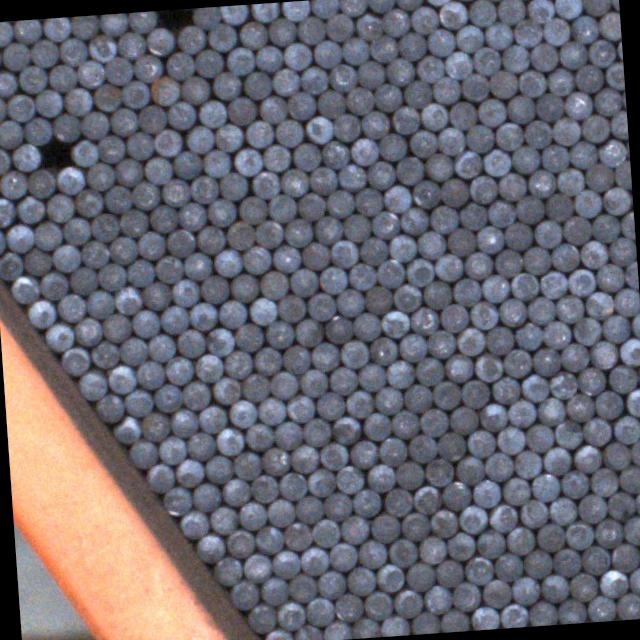tool: (326, 540, 356, 570), (450, 581, 480, 611), (370, 513, 400, 543), (458, 378, 488, 408), (258, 269, 288, 299), (504, 94, 534, 124), (588, 466, 618, 496), (440, 480, 470, 510), (506, 398, 536, 428), (494, 426, 524, 456), (270, 548, 300, 578), (148, 77, 178, 107), (364, 160, 394, 190), (538, 574, 568, 604), (416, 230, 446, 260), (172, 149, 202, 179), (44, 192, 74, 222), (328, 366, 358, 396), (454, 326, 484, 356), (512, 448, 542, 478), (426, 328, 456, 358), (436, 431, 466, 461), (438, 178, 468, 208), (4, 223, 34, 253), (212, 556, 242, 586), (528, 472, 558, 502), (160, 178, 190, 208), (404, 256, 434, 286), (534, 522, 564, 552), (362, 589, 392, 619), (420, 280, 450, 310), (518, 498, 548, 528), (138, 410, 168, 440), (58, 36, 88, 66), (44, 322, 74, 352), (596, 137, 626, 167), (562, 214, 592, 244), (54, 165, 84, 195), (456, 200, 486, 230), (454, 456, 484, 486), (326, 62, 356, 92), (302, 416, 331, 446), (308, 166, 338, 195), (372, 385, 402, 414), (523, 119, 552, 149), (578, 494, 607, 524), (105, 364, 134, 394), (502, 349, 532, 378), (574, 366, 604, 395), (354, 361, 384, 390), (309, 342, 338, 372), (418, 406, 447, 436), (483, 450, 512, 480), (380, 308, 409, 338), (242, 244, 271, 274), (232, 450, 261, 480), (458, 505, 488, 534), (482, 578, 511, 608), (339, 514, 368, 544), (402, 382, 431, 412), (339, 338, 368, 368), (321, 491, 350, 521), (167, 100, 196, 130), (300, 240, 329, 270), (505, 524, 534, 554), (162, 487, 192, 516), (406, 560, 435, 590), (273, 419, 302, 449), (242, 553, 271, 583), (439, 303, 469, 332), (572, 64, 602, 93), (230, 580, 259, 610), (393, 460, 422, 490), (298, 366, 327, 396), (464, 429, 494, 458), (356, 538, 385, 568), (430, 379, 459, 409), (304, 596, 333, 626), (448, 406, 478, 435), (552, 115, 581, 145), (368, 336, 397, 366), (599, 568, 628, 598), (408, 432, 437, 462), (62, 217, 92, 246), (224, 220, 254, 249), (324, 188, 354, 217), (156, 434, 185, 464), (452, 150, 481, 180), (298, 546, 327, 576), (493, 552, 522, 582), (286, 572, 315, 602), (27, 167, 56, 197), (60, 347, 90, 376), (572, 186, 601, 216), (428, 508, 457, 538), (398, 206, 428, 235), (330, 238, 359, 268), (10, 142, 40, 171), (190, 482, 219, 512), (408, 304, 437, 334), (567, 266, 596, 296), (509, 270, 538, 300), (387, 538, 416, 568), (224, 528, 253, 558), (551, 548, 580, 578), (194, 225, 223, 255), (359, 110, 388, 140), (443, 353, 472, 383), (179, 381, 208, 411), (100, 313, 129, 343), (583, 162, 612, 192), (22, 116, 52, 145), (594, 262, 623, 292), (74, 316, 103, 346), (84, 162, 114, 191), (578, 113, 608, 142), (74, 188, 103, 218), (429, 204, 458, 234), (534, 92, 563, 122), (95, 263, 125, 292), (50, 243, 80, 272), (589, 212, 618, 242), (108, 106, 137, 136), (91, 338, 120, 368), (608, 362, 637, 392), (322, 314, 351, 344), (63, 86, 92, 115), (333, 463, 362, 492), (351, 489, 380, 518), (563, 392, 592, 421), (202, 148, 231, 177), (164, 227, 193, 256), (118, 335, 147, 364), (463, 555, 492, 584), (79, 111, 108, 140), (448, 100, 477, 129), (207, 197, 236, 226), (389, 410, 418, 439), (174, 328, 203, 357), (460, 73, 489, 102), (509, 145, 538, 174), (134, 359, 163, 388), (424, 456, 453, 485), (412, 178, 441, 207), (305, 292, 334, 321), (218, 172, 247, 201), (499, 44, 528, 73), (197, 403, 226, 432), (383, 358, 412, 387), (109, 236, 138, 265), (396, 31, 425, 60), (425, 27, 454, 56), (103, 55, 132, 84), (463, 124, 492, 153), (184, 432, 213, 461), (473, 352, 502, 381), (373, 562, 402, 591), (239, 194, 268, 223), (399, 511, 428, 540), (222, 349, 251, 378), (608, 237, 637, 266), (372, 84, 401, 113), (431, 75, 460, 104), (143, 157, 172, 186), (611, 416, 640, 445), (213, 426, 242, 455), (476, 528, 505, 557), (553, 419, 582, 448), (584, 289, 613, 318), (450, 277, 479, 306), (153, 254, 182, 283), (467, 300, 496, 329), (176, 23, 205, 52), (149, 204, 178, 233), (248, 295, 277, 324), (392, 588, 421, 617), (493, 249, 522, 278), (80, 239, 109, 268), (513, 322, 542, 351), (539, 143, 568, 172), (1, 42, 30, 71), (103, 183, 132, 212), (330, 415, 359, 444), (534, 397, 563, 426), (489, 375, 518, 404), (133, 52, 162, 81), (445, 226, 474, 255), (530, 347, 559, 376), (207, 22, 236, 51), (226, 96, 255, 125), (56, 293, 85, 322), (14, 194, 43, 223), (413, 53, 442, 82), (488, 502, 517, 531), (95, 393, 124, 422), (66, 267, 95, 296), (544, 191, 573, 220), (311, 518, 339, 548), (276, 600, 304, 630), (158, 304, 188, 332), (280, 344, 308, 374), (378, 436, 406, 466), (568, 572, 596, 602), (478, 402, 506, 432), (582, 544, 610, 574), (346, 565, 374, 595), (132, 180, 160, 210), (260, 446, 288, 476), (269, 370, 297, 400), (248, 472, 276, 502), (124, 388, 152, 418), (198, 100, 228, 128), (423, 584, 451, 614), (334, 286, 362, 316), (238, 500, 266, 530), (559, 468, 587, 498), (594, 518, 622, 548), (358, 236, 388, 264), (306, 466, 334, 496), (220, 478, 248, 508), (256, 218, 284, 248), (144, 462, 172, 492), (170, 278, 198, 308), (542, 319, 570, 349), (314, 38, 342, 68), (588, 338, 616, 368), (288, 444, 316, 474), (296, 192, 324, 222), (332, 592, 360, 622), (383, 182, 411, 212), (316, 568, 344, 598), (275, 116, 303, 146), (274, 294, 304, 322), (26, 298, 54, 328), (290, 142, 320, 170), (228, 274, 258, 302), (488, 70, 518, 98), (4, 93, 34, 121), (602, 186, 632, 214), (90, 212, 118, 242), (29, 38, 57, 68), (524, 548, 552, 578), (610, 542, 638, 572), (194, 352, 222, 382), (169, 408, 197, 438), (538, 270, 566, 300), (129, 438, 157, 468), (153, 384, 181, 414), (480, 272, 508, 302), (136, 103, 164, 133), (402, 80, 430, 110), (268, 18, 298, 46), (568, 140, 596, 170), (606, 490, 634, 520), (412, 484, 440, 514), (571, 444, 599, 474), (356, 58, 384, 88), (86, 32, 114, 62), (46, 64, 76, 92), (498, 170, 526, 200), (425, 152, 453, 182), (114, 284, 142, 314), (210, 377, 240, 405), (85, 288, 113, 318), (164, 354, 192, 384), (248, 604, 276, 634), (40, 270, 68, 300), (34, 220, 62, 250), (512, 18, 542, 46), (367, 462, 395, 491), (594, 390, 622, 419), (152, 127, 180, 156), (188, 175, 216, 204), (560, 341, 588, 370), (288, 268, 316, 297), (503, 222, 532, 250), (364, 284, 392, 313), (318, 265, 346, 294), (398, 333, 426, 362), (266, 194, 294, 223), (602, 315, 630, 344), (582, 418, 610, 447), (285, 217, 313, 246), (282, 521, 310, 550), (418, 536, 446, 565), (394, 156, 422, 185), (548, 371, 576, 400), (474, 224, 502, 253), (344, 389, 372, 418), (196, 533, 224, 562), (294, 318, 322, 347), (178, 509, 206, 538), (286, 90, 314, 119), (350, 312, 378, 341), (542, 447, 570, 476), (468, 175, 496, 204), (294, 495, 322, 524), (240, 373, 268, 402), (525, 296, 554, 324), (234, 322, 262, 351), (137, 230, 166, 258), (318, 442, 347, 470), (528, 167, 556, 196), (494, 122, 522, 151), (600, 441, 628, 470), (265, 497, 293, 526), (524, 423, 552, 452), (314, 214, 342, 243), (174, 458, 202, 487), (199, 275, 227, 304), (188, 300, 216, 329), (316, 89, 344, 118), (278, 470, 306, 499), (204, 326, 232, 355), (97, 134, 125, 163), (414, 355, 442, 384), (142, 282, 171, 310), (442, 51, 470, 80), (304, 115, 332, 144), (233, 147, 262, 175), (510, 576, 538, 605), (51, 114, 80, 142), (352, 186, 380, 215), (520, 247, 548, 276), (513, 194, 542, 222), (214, 70, 242, 99), (130, 308, 158, 337), (571, 317, 599, 346), (214, 121, 242, 150), (300, 65, 328, 94), (114, 157, 142, 186), (350, 136, 378, 165), (258, 576, 287, 604), (336, 163, 364, 192), (393, 282, 421, 311), (74, 58, 102, 87), (227, 45, 255, 74), (409, 4, 438, 32), (147, 333, 175, 362), (316, 390, 344, 419), (476, 98, 504, 127), (324, 13, 352, 42), (462, 252, 490, 281), (208, 506, 236, 535), (564, 91, 592, 120), (79, 371, 107, 400), (349, 440, 377, 469), (253, 524, 282, 552), (182, 76, 210, 105), (124, 258, 152, 287), (592, 88, 620, 117), (555, 167, 584, 195), (346, 86, 374, 115), (204, 455, 232, 484), (384, 488, 412, 517), (195, 47, 223, 76), (258, 95, 286, 124), (144, 27, 172, 56), (356, 12, 384, 41), (549, 244, 578, 272), (92, 82, 120, 111), (238, 21, 266, 50), (19, 246, 48, 274), (70, 138, 98, 167), (420, 100, 447, 130), (530, 42, 557, 72), (322, 138, 349, 168), (545, 68, 572, 98), (578, 240, 606, 268), (183, 252, 211, 280), (564, 521, 592, 549), (280, 168, 308, 196), (184, 124, 212, 152), (471, 46, 499, 74), (376, 260, 404, 288), (434, 558, 462, 586), (370, 210, 398, 238), (264, 320, 292, 348), (436, 126, 464, 154), (558, 40, 586, 68), (388, 234, 416, 262), (368, 34, 396, 62), (554, 294, 582, 322), (484, 326, 512, 354), (270, 244, 298, 272), (34, 88, 62, 116), (497, 298, 525, 326), (284, 392, 312, 420), (586, 38, 614, 66), (214, 248, 242, 276), (487, 200, 515, 228), (382, 8, 410, 36), (518, 70, 546, 98), (251, 170, 279, 198), (520, 373, 548, 401), (254, 346, 282, 374), (256, 396, 284, 424), (446, 532, 474, 560), (346, 262, 374, 290), (246, 118, 274, 146), (272, 67, 300, 95), (262, 143, 290, 171), (118, 208, 146, 236), (386, 58, 414, 86), (454, 24, 482, 52), (120, 80, 148, 108), (376, 132, 404, 160), (124, 130, 152, 158), (546, 496, 574, 524), (534, 220, 562, 248), (298, 16, 326, 44), (17, 64, 45, 92), (483, 148, 511, 176), (10, 274, 38, 302), (408, 130, 436, 158), (116, 31, 144, 59), (110, 414, 138, 442), (254, 45, 282, 73), (557, 597, 586, 624), (613, 286, 640, 315), (472, 478, 499, 507), (283, 41, 312, 68), (332, 111, 359, 140), (342, 37, 369, 66), (341, 212, 368, 241), (362, 412, 389, 441), (178, 202, 205, 231), (227, 398, 254, 427), (217, 298, 244, 327), (570, 14, 597, 43), (588, 595, 616, 622), (434, 255, 462, 282), (245, 422, 272, 450), (439, 0, 467, 27), (391, 106, 418, 134), (501, 476, 528, 504), (484, 21, 512, 48), (167, 50, 194, 78), (498, 602, 527, 628), (528, 600, 557, 626), (246, 71, 272, 100), (0, 168, 25, 198), (542, 16, 568, 44), (496, 0, 525, 25), (467, 0, 495, 25), (469, 606, 498, 630), (616, 463, 640, 492), (438, 608, 467, 632), (615, 592, 640, 619), (41, 17, 69, 41), (12, 20, 40, 44), (0, 118, 22, 148), (618, 336, 640, 365), (378, 615, 408, 636), (598, 10, 620, 38), (98, 13, 126, 35), (128, 10, 156, 32), (526, 0, 554, 22), (192, 6, 220, 28), (249, 2, 279, 22), (0, 250, 20, 280), (70, 15, 96, 38), (412, 612, 439, 634), (604, 63, 625, 91), (612, 160, 632, 189), (352, 617, 379, 638), (281, 0, 309, 20), (609, 109, 628, 138), (622, 515, 640, 545), (322, 620, 349, 640), (554, 0, 582, 19), (218, 4, 246, 23), (310, 0, 339, 18), (292, 623, 320, 640), (622, 260, 638, 288), (340, 0, 369, 15), (0, 70, 16, 97), (0, 196, 14, 225), (581, 0, 610, 14), (626, 388, 640, 416), (620, 212, 634, 240), (628, 565, 640, 595), (263, 628, 291, 640), (629, 436, 640, 465), (0, 20, 12, 46), (367, 0, 393, 12), (394, 0, 423, 10), (630, 312, 640, 340), (0, 147, 9, 175), (634, 490, 640, 519), (616, 34, 622, 63), (0, 94, 5, 123), (0, 225, 5, 254), (425, 0, 453, 5), (609, 0, 619, 10), (637, 361, 640, 388)
